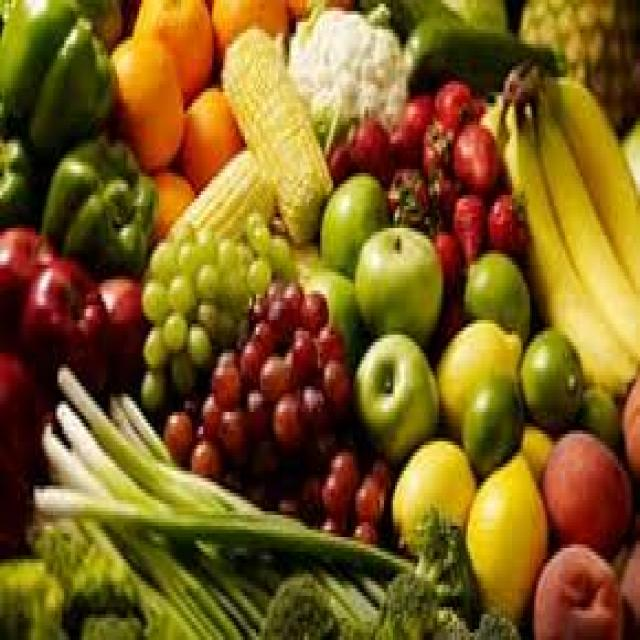organic waste: (501, 66, 638, 394), (53, 398, 238, 636), (110, 386, 282, 633), (29, 486, 408, 578), (42, 427, 207, 636), (525, 66, 638, 353), (55, 357, 219, 508), (219, 22, 331, 243), (543, 70, 638, 290), (0, 0, 115, 166), (40, 133, 156, 280), (35, 508, 159, 636), (280, 0, 402, 129), (518, 0, 637, 132), (461, 445, 545, 622), (397, 0, 556, 88), (20, 254, 106, 401), (388, 434, 474, 570), (163, 140, 274, 243), (541, 423, 629, 552), (351, 327, 437, 456), (0, 342, 53, 548), (351, 221, 439, 342), (108, 26, 183, 166), (432, 313, 521, 430), (395, 500, 477, 618), (128, 0, 212, 107), (532, 541, 622, 636), (340, 570, 463, 636), (254, 566, 353, 636), (177, 81, 240, 191), (318, 165, 384, 268), (516, 324, 580, 430), (462, 246, 528, 338), (97, 272, 144, 401), (0, 220, 53, 334), (459, 371, 519, 471), (207, 0, 287, 74), (0, 552, 64, 636), (0, 118, 42, 228), (452, 118, 497, 188), (346, 107, 388, 180), (574, 382, 618, 448), (148, 166, 192, 228), (488, 184, 525, 257), (278, 0, 349, 37), (477, 70, 512, 143), (432, 74, 477, 128), (397, 88, 433, 151), (452, 188, 486, 254), (516, 416, 552, 478), (620, 360, 638, 474), (388, 166, 426, 220), (322, 463, 356, 522), (620, 530, 638, 636), (428, 217, 455, 283), (322, 356, 351, 416), (426, 169, 459, 221), (351, 467, 384, 519), (254, 346, 287, 397), (389, 110, 417, 170), (194, 298, 232, 342), (422, 118, 450, 176), (208, 350, 238, 404), (269, 386, 296, 445), (161, 408, 190, 460), (219, 405, 247, 456), (284, 335, 316, 379), (236, 334, 265, 382), (309, 423, 340, 467), (218, 265, 252, 305), (470, 607, 516, 636), (311, 103, 347, 140), (199, 393, 227, 438), (620, 122, 638, 192), (296, 382, 322, 430), (265, 294, 289, 346), (298, 287, 329, 327), (243, 382, 265, 438), (437, 280, 459, 334), (139, 360, 166, 404), (276, 482, 302, 526), (168, 265, 194, 309), (148, 236, 174, 280), (324, 129, 349, 173), (185, 320, 210, 364), (141, 320, 166, 360), (139, 276, 166, 313), (216, 236, 247, 268), (168, 349, 192, 390), (247, 438, 274, 474), (265, 232, 287, 276), (245, 210, 267, 253), (190, 438, 218, 471), (298, 470, 320, 508), (282, 283, 302, 324), (194, 257, 214, 298), (161, 309, 183, 346), (315, 324, 340, 356), (247, 254, 269, 287), (252, 320, 274, 349), (349, 515, 373, 541), (192, 228, 212, 258), (174, 239, 192, 269), (369, 449, 384, 482), (470, 92, 486, 118), (174, 217, 190, 235)
